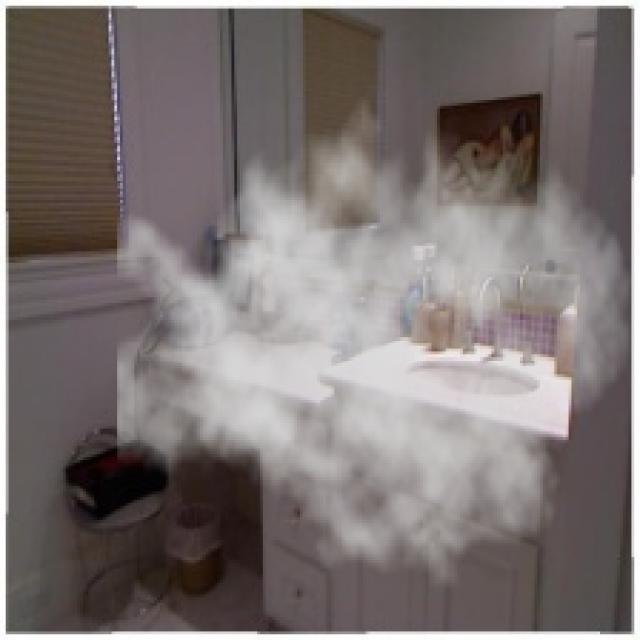Smoke: (117, 74, 634, 592)
